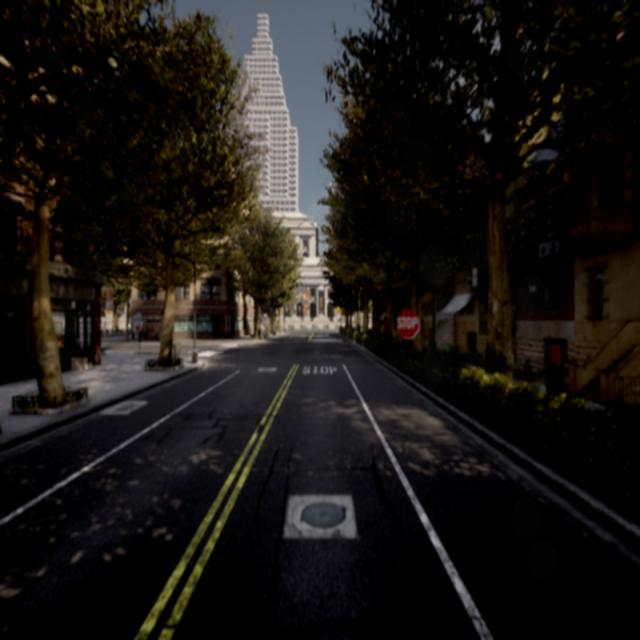stop sign: (394, 305, 422, 341)
